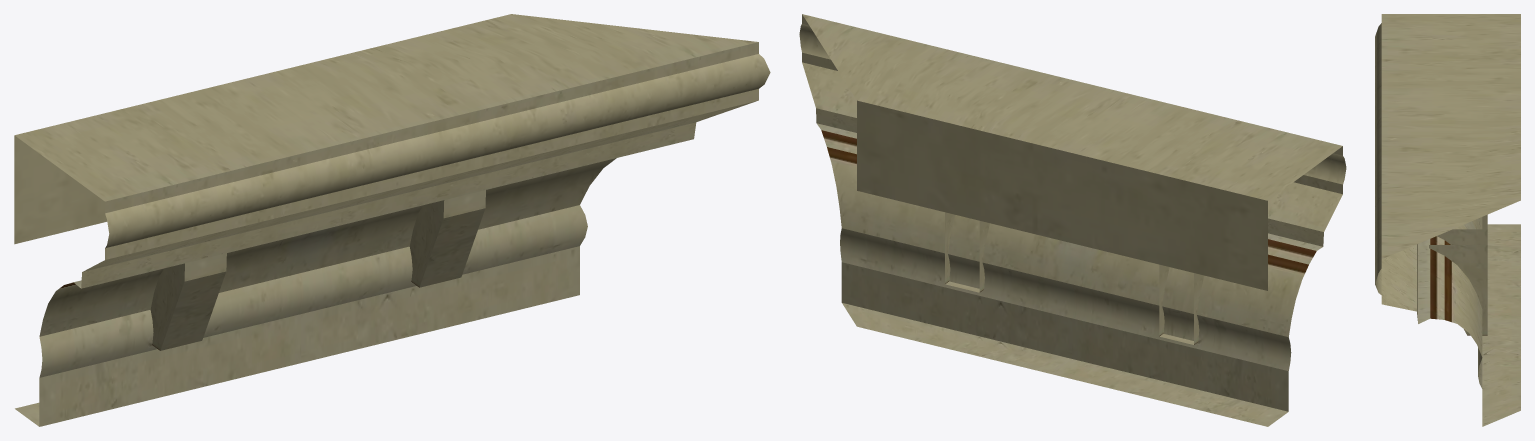
File: Cornice_Trim_R.glb
The picture shows the model from 3 angles, left to right: view 1: azimuth 30°, elevation 25°; view 2: azimuth 150°, elevation 25°; view 3: azimuth 270°, elevation 25°; orthographic projection. The views are drawn at different scales.
Parts seen in each view (by area): view 1: Cornice_Trim_R; view 2: Cornice_Trim_R; view 3: Cornice_Trim_R.
Boxes of the visible parts, <box> form: Cornice_Trim_R: <box>14,14,770,426</box>; Cornice_Trim_R: <box>799,14,1346,426</box>; Cornice_Trim_R: <box>1375,14,1520,426</box>.
Bounding box in the file's own units: 2.53 × 0.9985 × 0.6278.
1 material, 1 textured.
